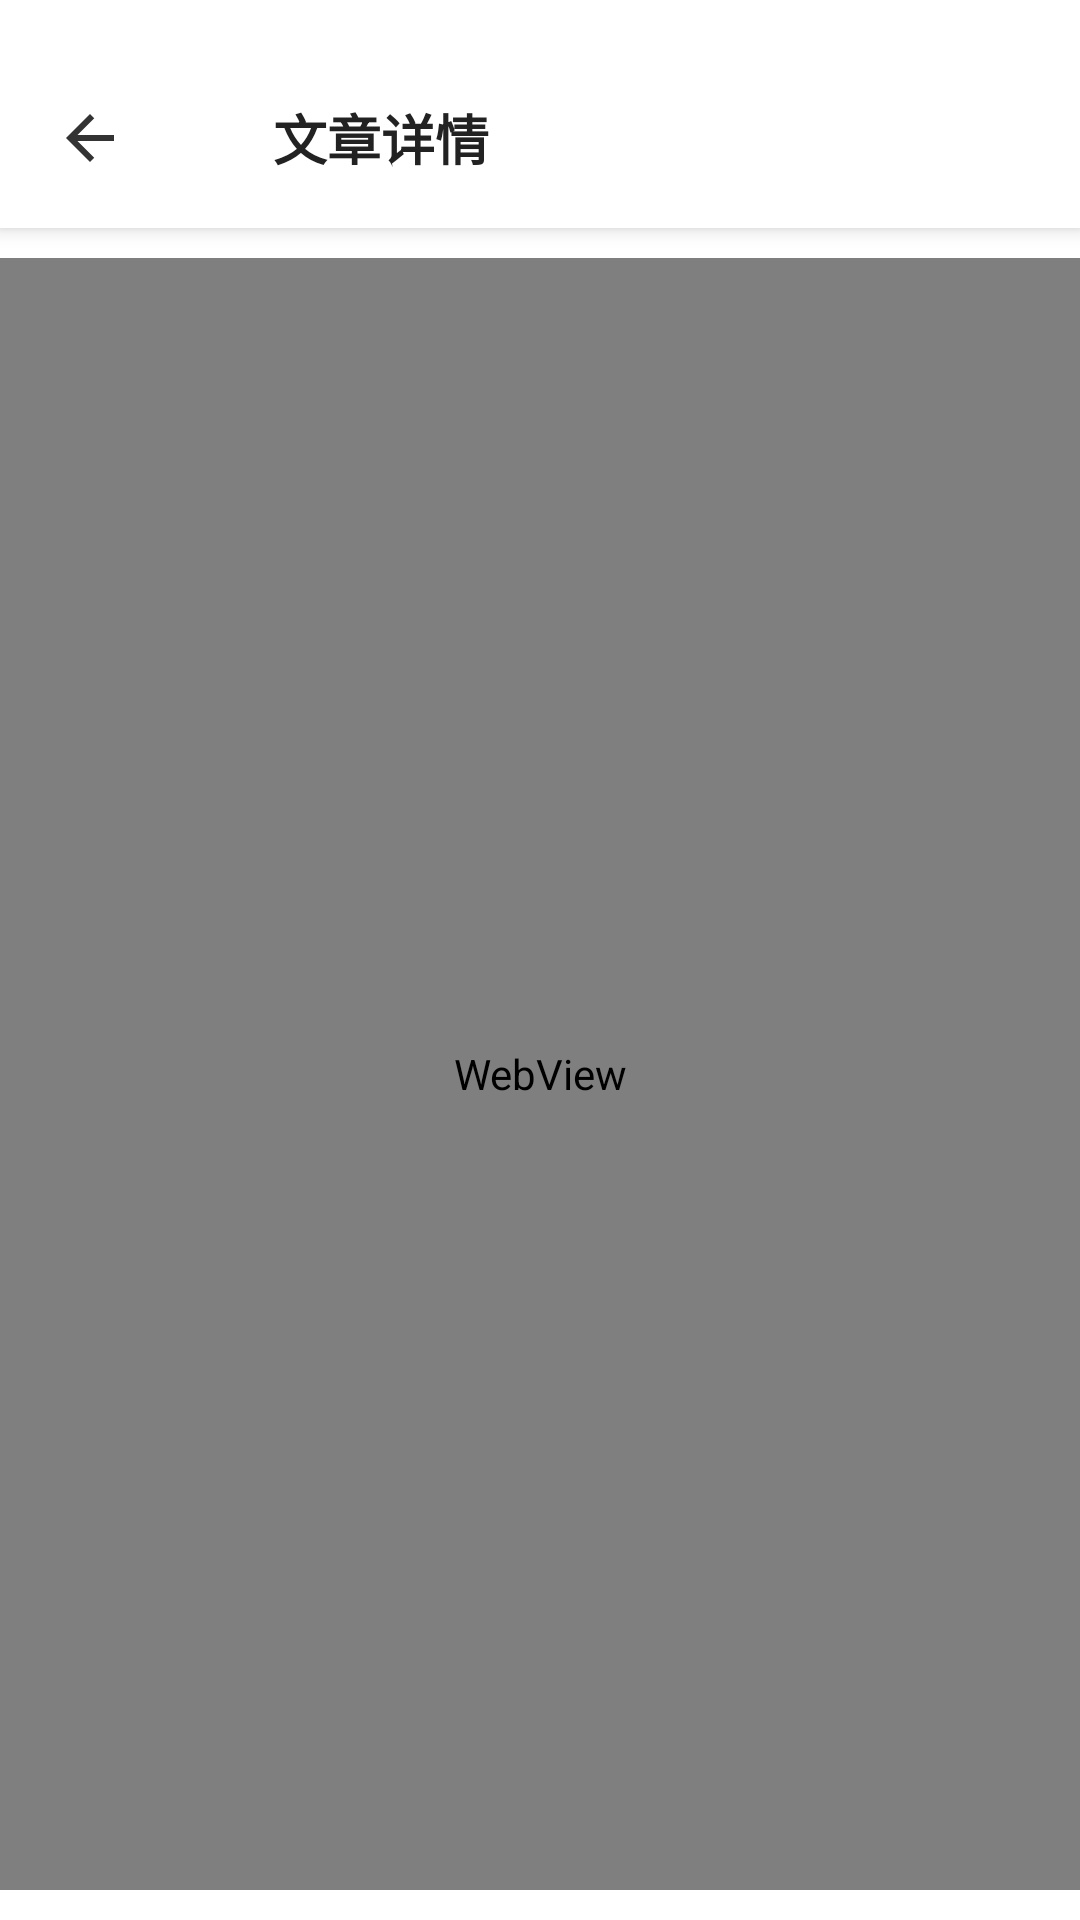

Named icons in this screenshot (1080px×1920px) and their centers, [x,y]:
返回: [90,138]
